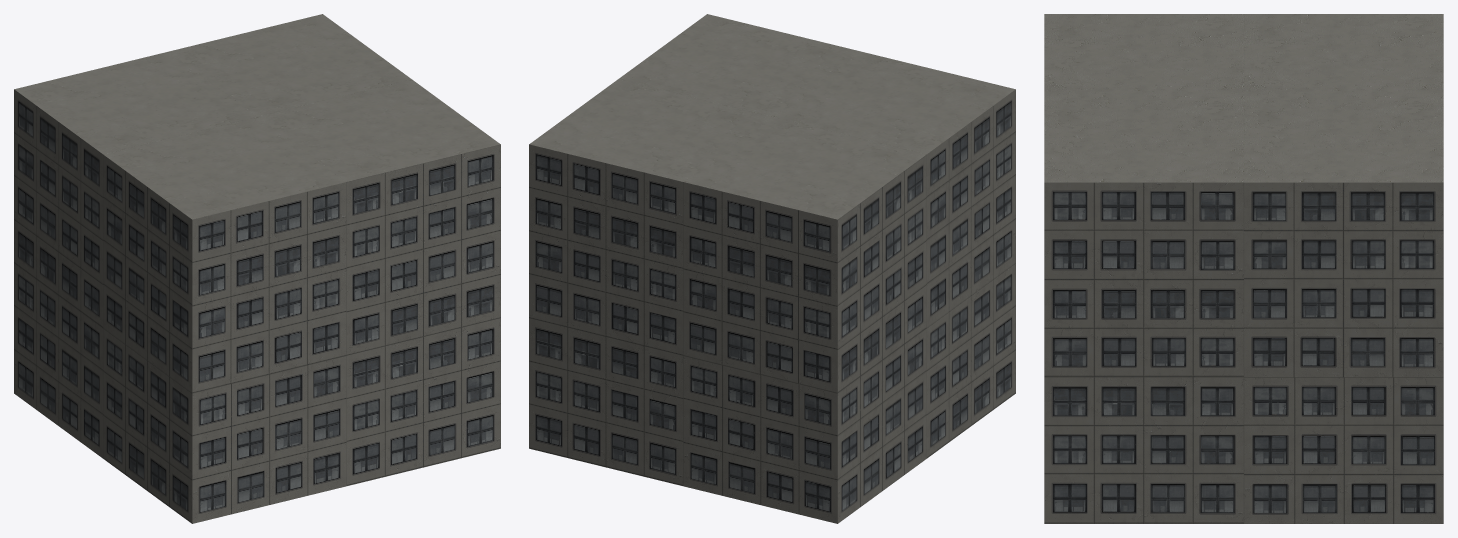
The model's file is office_building_2_bgr.fbx.
3 renders of one model, left to right at view 1: azimuth 30°, elevation 25°; view 2: azimuth 150°, elevation 25°; view 3: azimuth 270°, elevation 25°, orthographic. The views are drawn at different scales.
Visible parts, largest first — view 1: office_building_2_bgr; view 2: office_building_2_bgr; view 3: office_building_2_bgr.
Boxes of the visible parts, box(x1,y1,x2,y2) form: office_building_2_bgr: box(14, 14, 500, 523); office_building_2_bgr: box(529, 14, 1015, 523); office_building_2_bgr: box(1044, 14, 1443, 523).
Bounding box in the file's own units: 2600 × 2450 × 2600.
